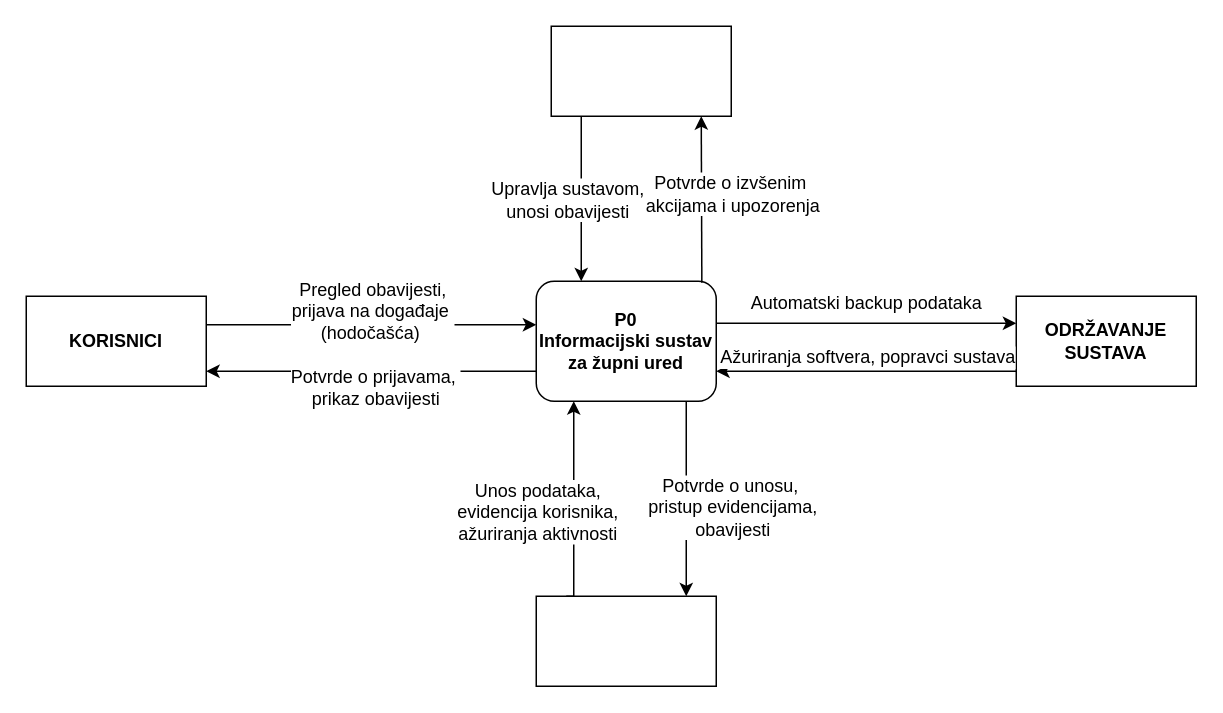
Image size: 1223x713. Some labels were removed from this diagram. Here are the shapes that lost their labels. From the top down, the centre of each, then its label:
point 640,70: ADMINISTRATOR
point 625,640: DJELATNICI
